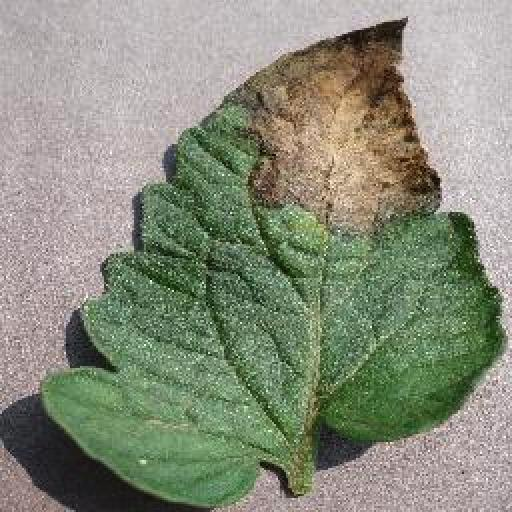disease_tomato: (33, 12, 507, 512)
